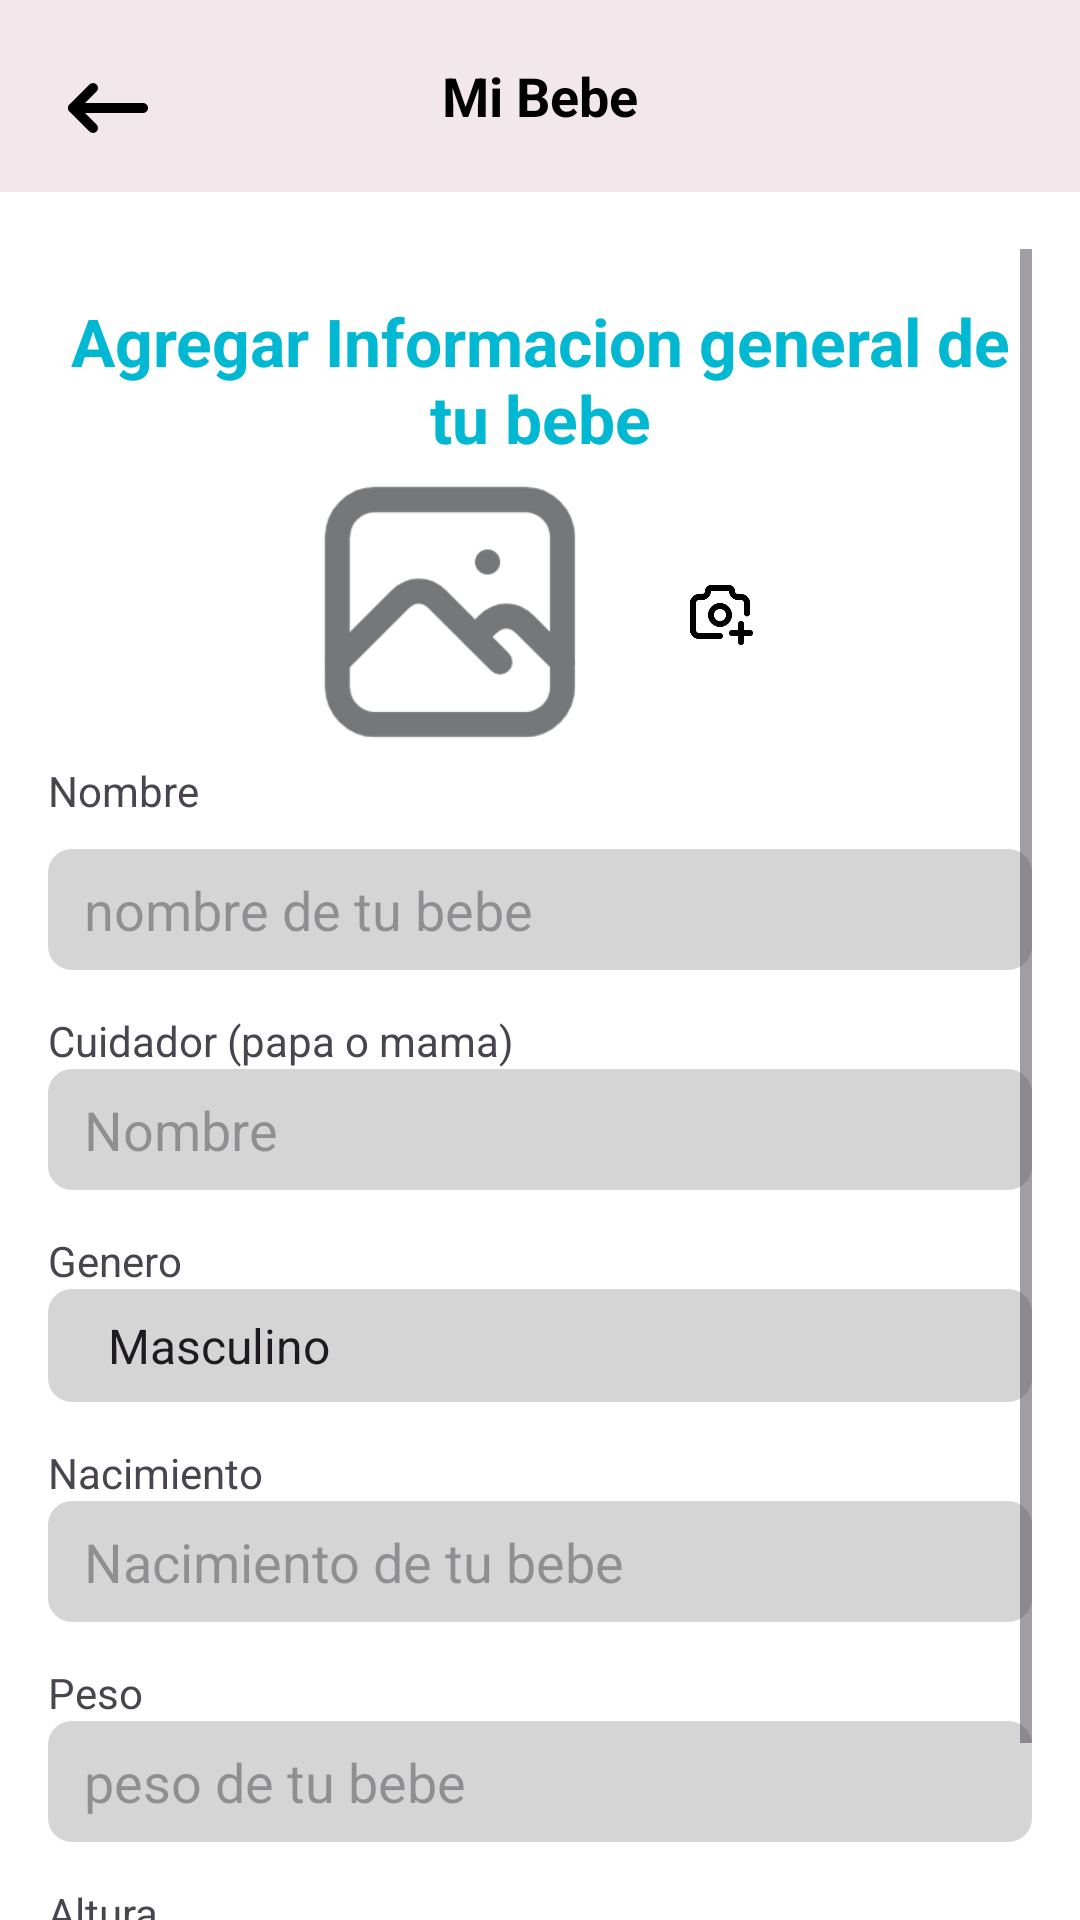

Where to tap for icons on this 1080 x 1920 app screen, as [x,y]:
patra: [108,108]
phot: [449,611]
Seleccionar imagen: [721,615]
